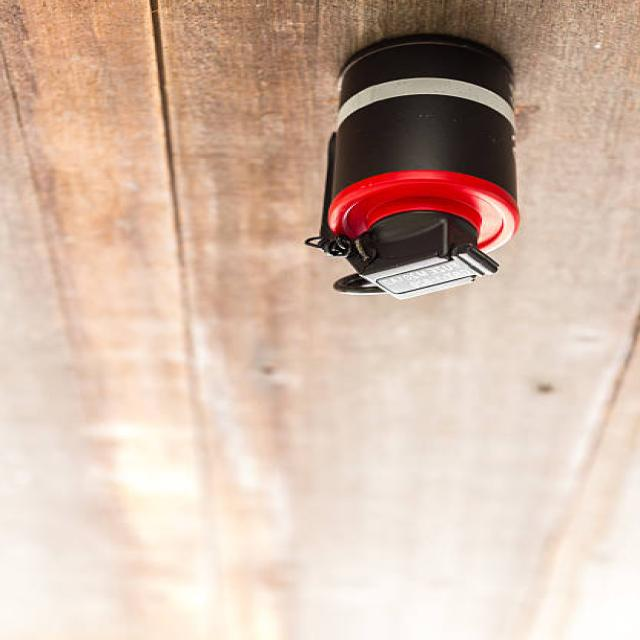grenade: (305, 28, 541, 303)
